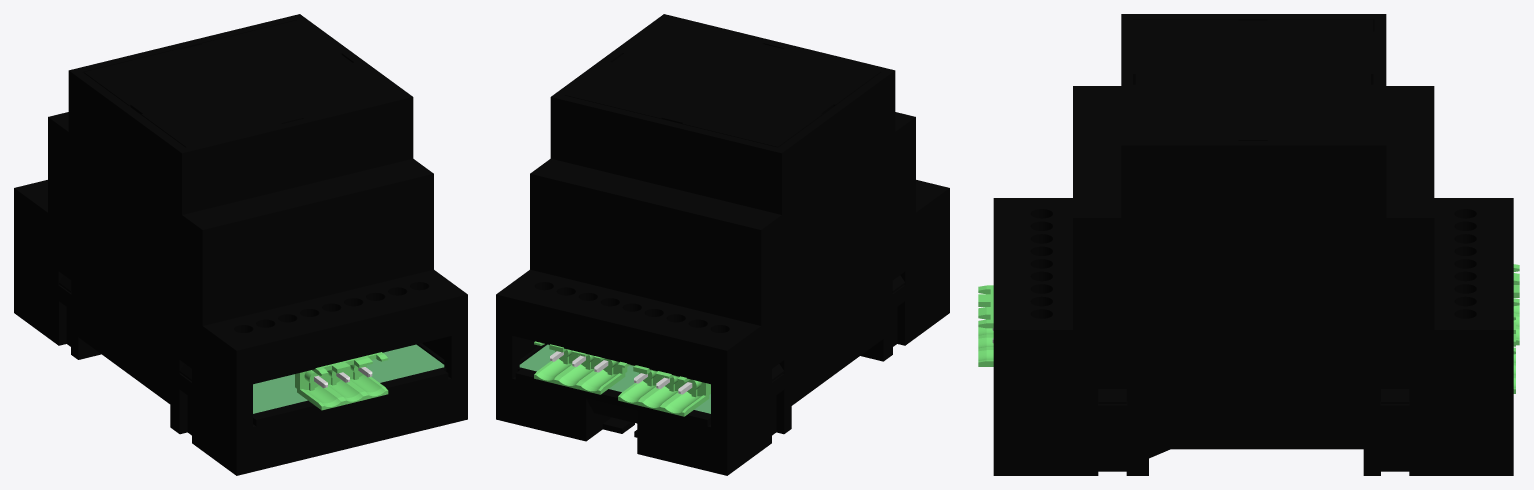
File: rkn_korpus.glb
The picture shows the model from 3 angles, left to right: view 1: azimuth 30°, elevation 25°; view 2: azimuth 150°, elevation 25°; view 3: azimuth 270°, elevation 25°; orthographic projection. The views are drawn at different scales.
Visible parts, largest first — view 1: Node2, Node5, Node1; view 2: Node2, Node5, Node1, Node6; view 3: Node2, Node5.
Part boxes in pixels (x1=…): Node2: x1=14, y1=14, x2=467, y2=475; Node5: x1=295, y1=352, x2=388, y2=410; Node1: x1=253, y1=344, x2=444, y2=413; Node2: x1=496, y1=14, x2=949, y2=475; Node5: x1=534, y1=341, x2=710, y2=416; Node1: x1=519, y1=344, x2=710, y2=413; Node6: x1=550, y1=351, x2=692, y2=394; Node2: x1=993, y1=14, x2=1513, y2=475; Node5: x1=978, y1=264, x2=1519, y2=393.
Bounding box in the file's own units: 53 × 64.6 × 91.95.
